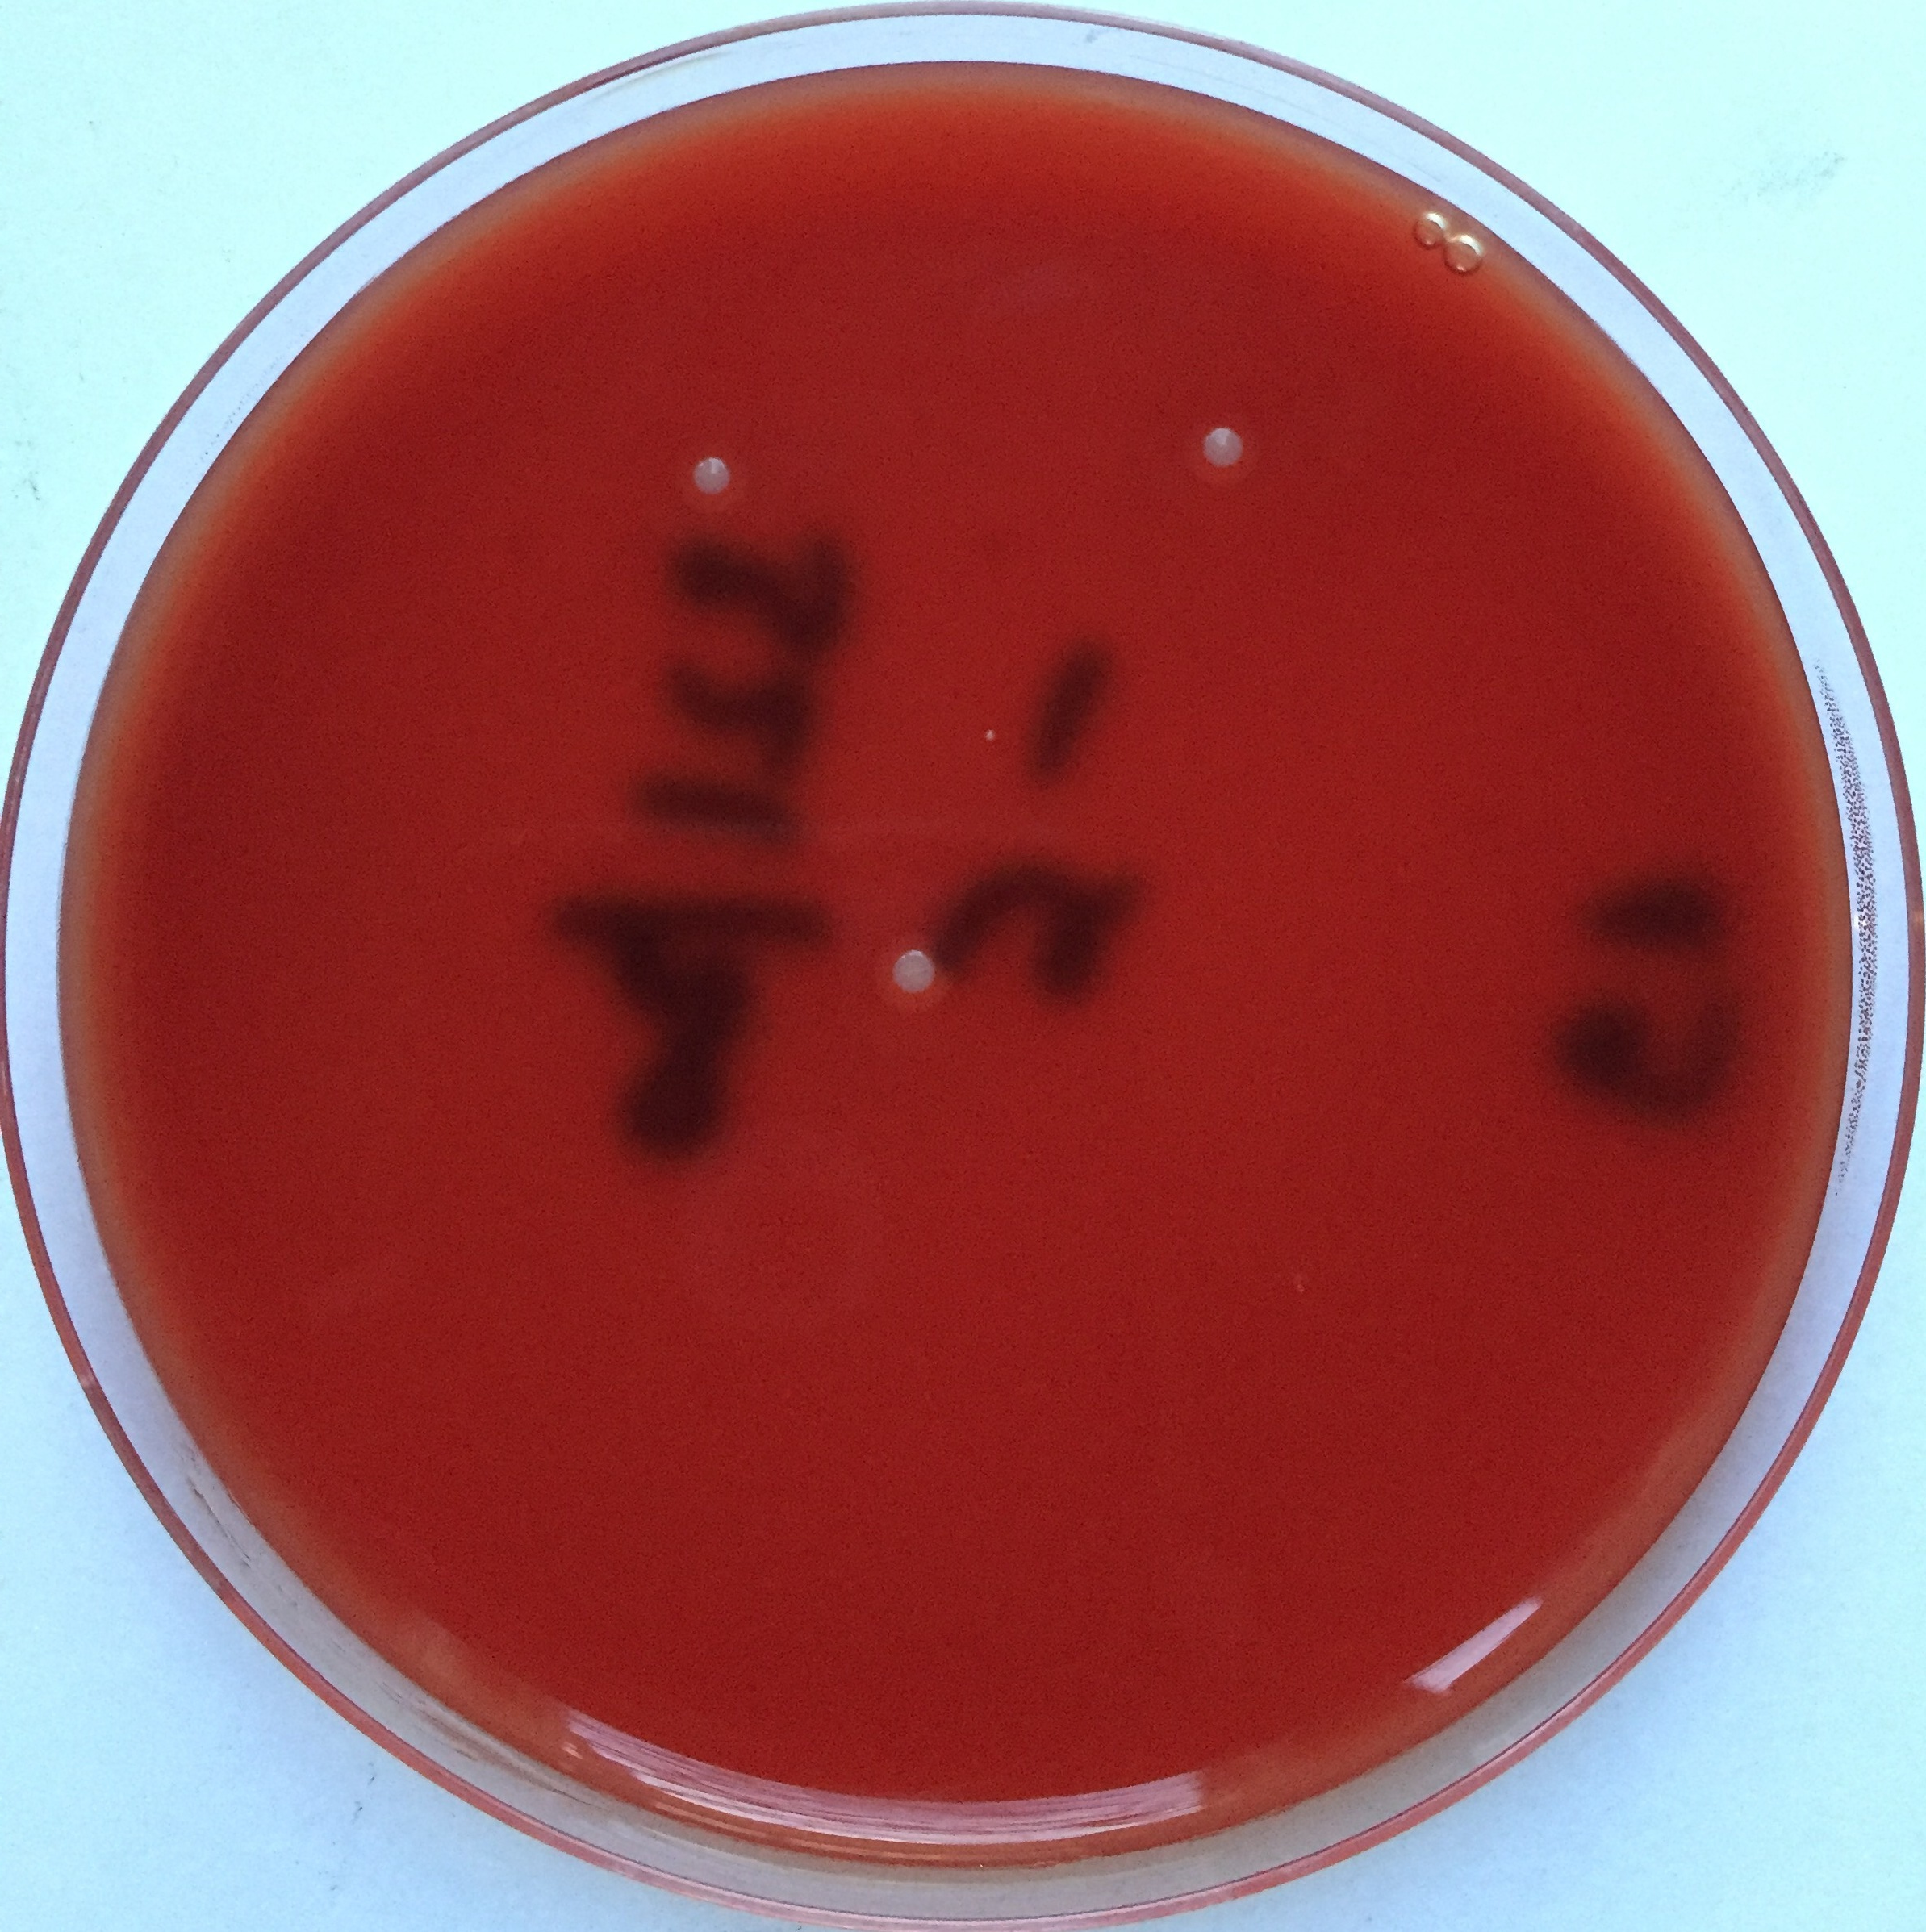sp21: (857, 911, 977, 1028), (663, 430, 750, 529), (1183, 411, 1250, 495)
